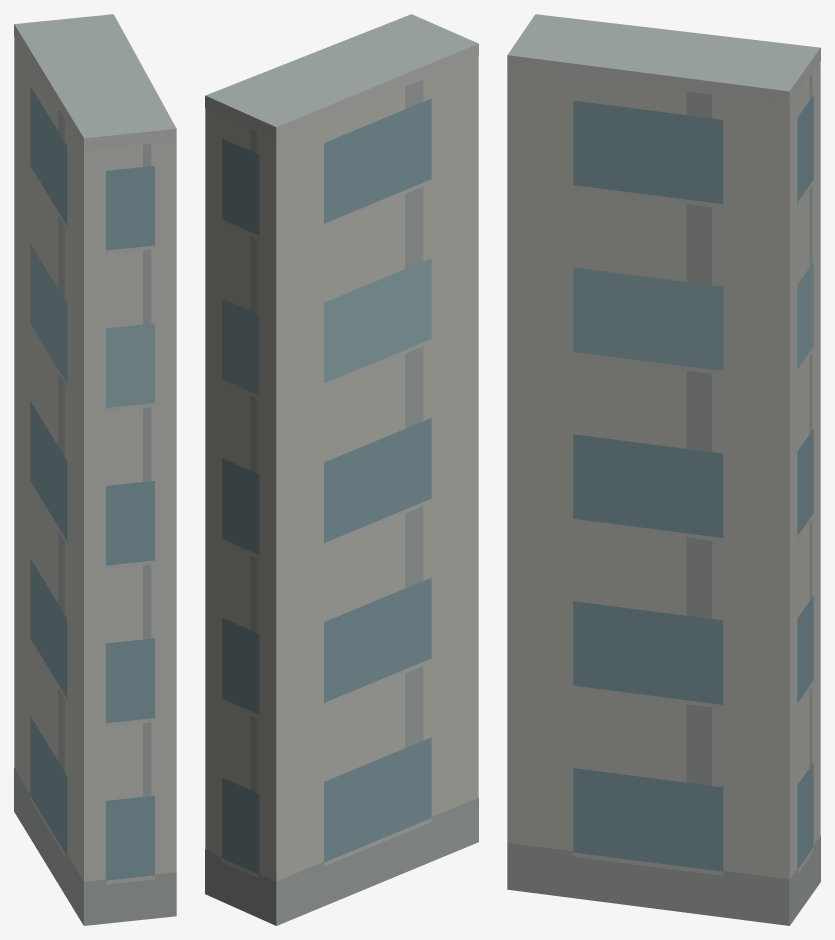
Rendered from survey-upis-32573757.glb.
3 renders of one model, left to right at view 1: azimuth 30°, elevation 25°; view 2: azimuth 150°, elevation 25°; view 3: azimuth 270°, elevation 25°, orthographic. The views are drawn at different scales.
Parts seen in each view (by area): view 1: survey-upis-32573757.tmp; view 2: survey-upis-32573757.tmp; view 3: survey-upis-32573757.tmp.
Part boxes in pixels (x1,y1,x2,y2): survey-upis-32573757.tmp: (14, 14, 176, 925); survey-upis-32573757.tmp: (205, 14, 478, 925); survey-upis-32573757.tmp: (507, 14, 820, 925).
Size of the model in its own units: 3.04 by 15.25 by 5.2.
